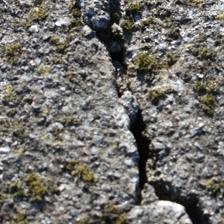Crack: (25, 13, 134, 101), (48, 45, 159, 91)
